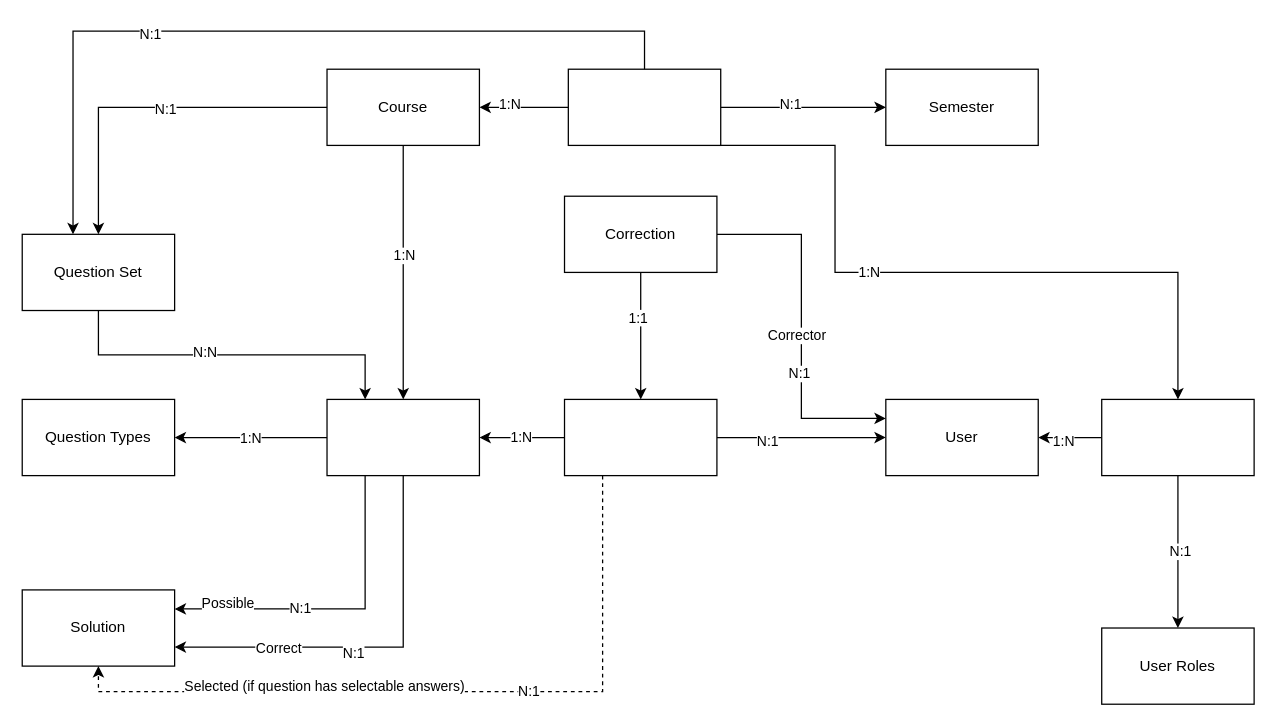
The diagram is 1276 pixels wide and 726 high, and some of its shapes have lost their labels. Here are the shapes that lost their labels. From the top down, the box of each, then its label:
(567, 68, 721, 145): Course Iteration
(326, 398, 479, 476): Question
(563, 398, 717, 476): Answer
(1100, 398, 1254, 476): Membership
